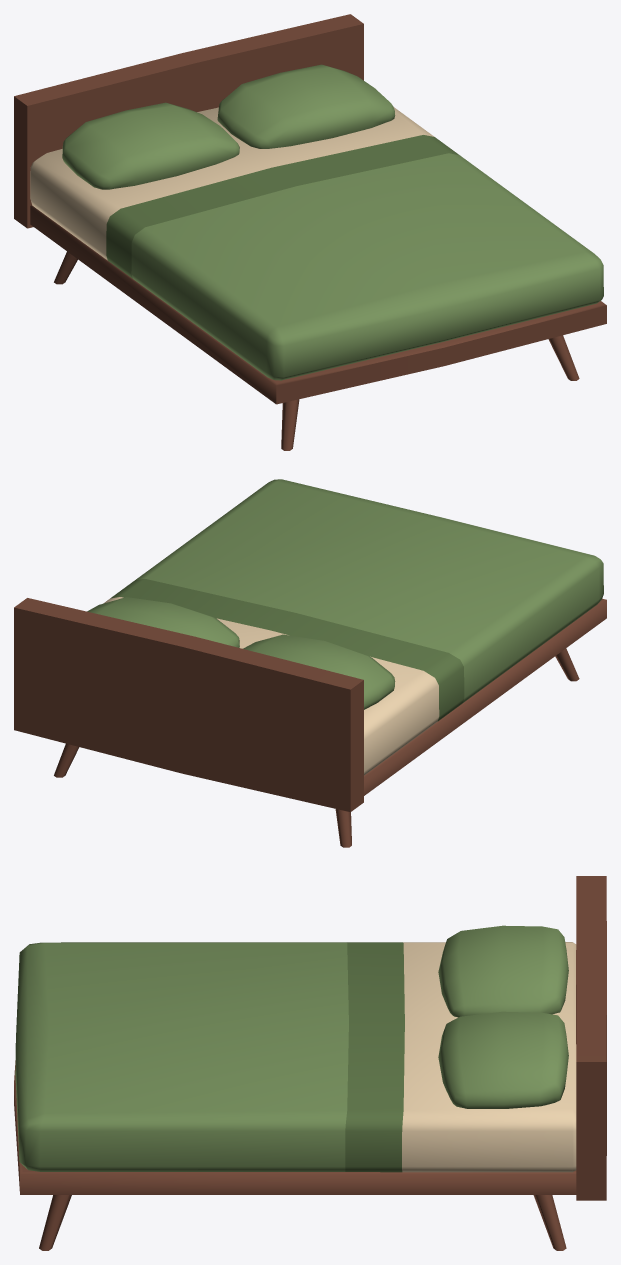
The model's file is Bed_01_Double.fbx.
The picture shows the model from 3 angles, top to bottom: view 1: azimuth 30°, elevation 25°; view 2: azimuth 150°, elevation 25°; view 3: azimuth 270°, elevation 25°; orthographic projection. The views are drawn at different scales.
Visible parts, largest first — view 1: Bed_01_Double; view 2: Bed_01_Double; view 3: Bed_01_Double.
Part boxes in pixels (x1=…): Bed_01_Double: x1=14, y1=14, x2=606, y2=450; Bed_01_Double: x1=14, y1=479, x2=606, y2=847; Bed_01_Double: x1=14, y1=876, x2=606, y2=1250.
Bounding box in the file's own units: 1.44 × 0.7303 × 1.94.
